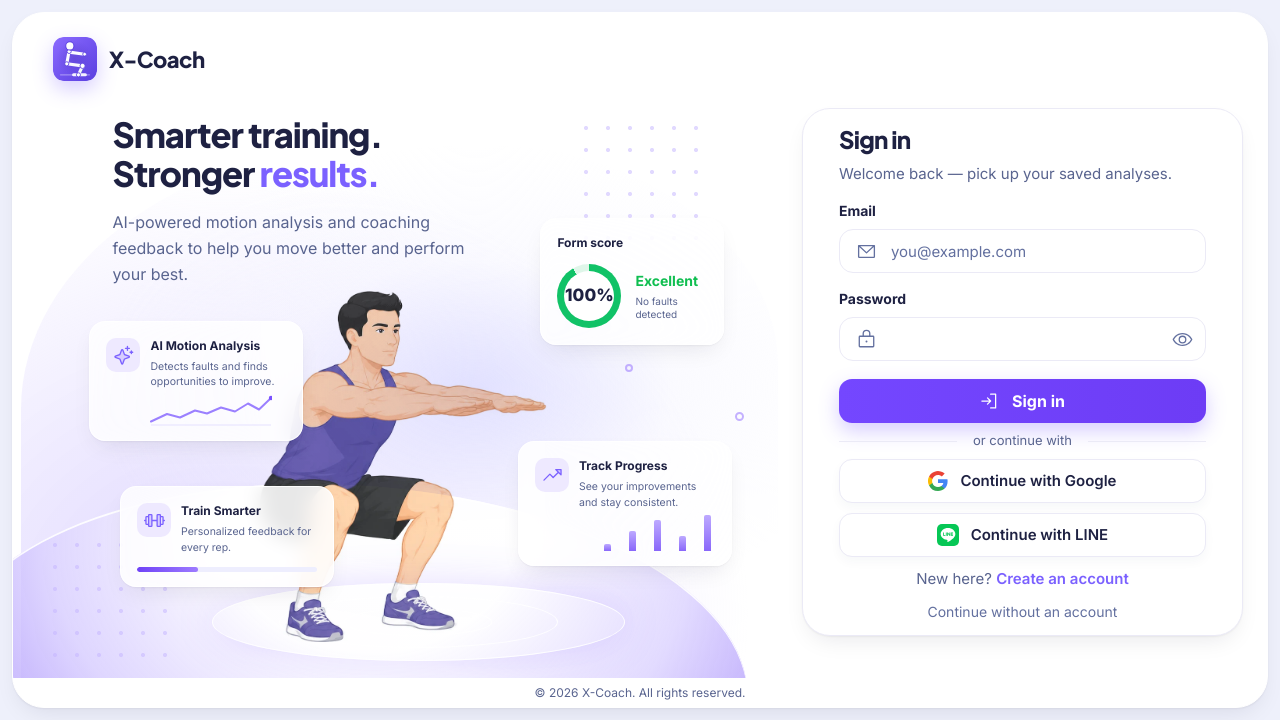
it: Login › shows the confirm-email notice on sign-up
This screenshot has width=1280, height=720.
Step 1. Click the button "Create an account" → (1062, 579), box [996, 568, 1129, 591]
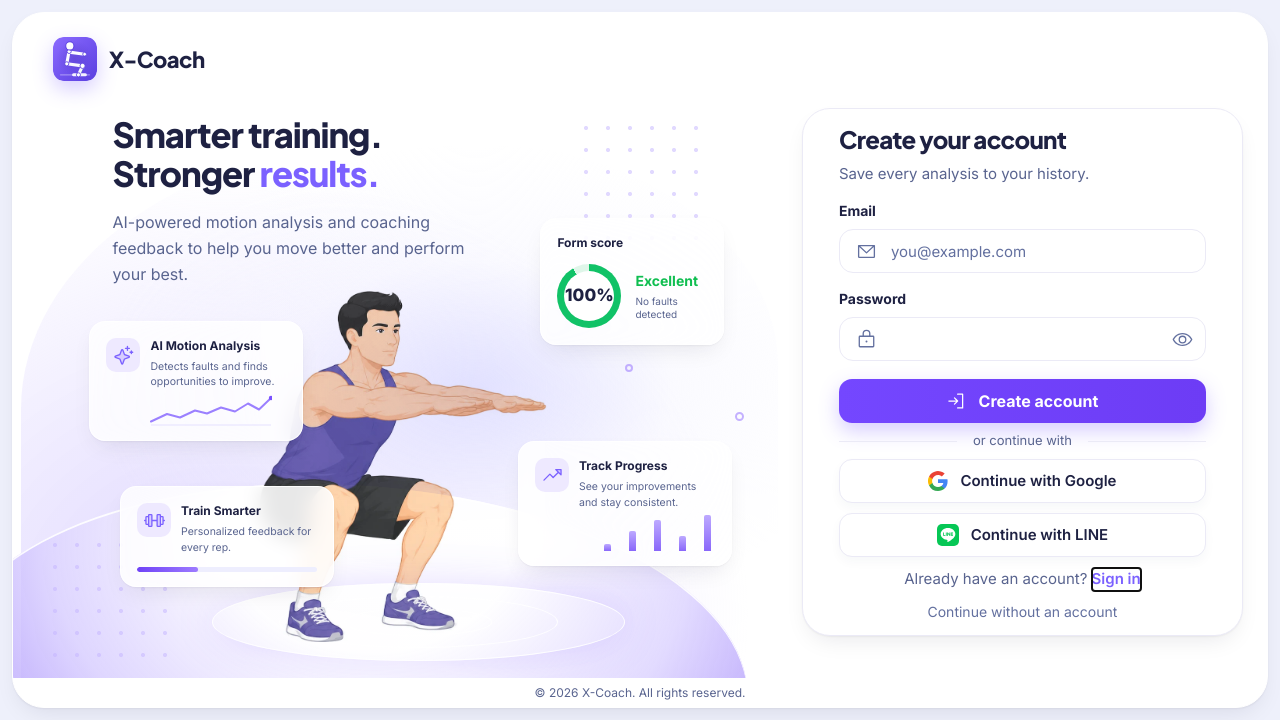
Step 2. Type "ada@x.com" into the field labelled "Email" → (1041, 251), box [877, 230, 1205, 272]
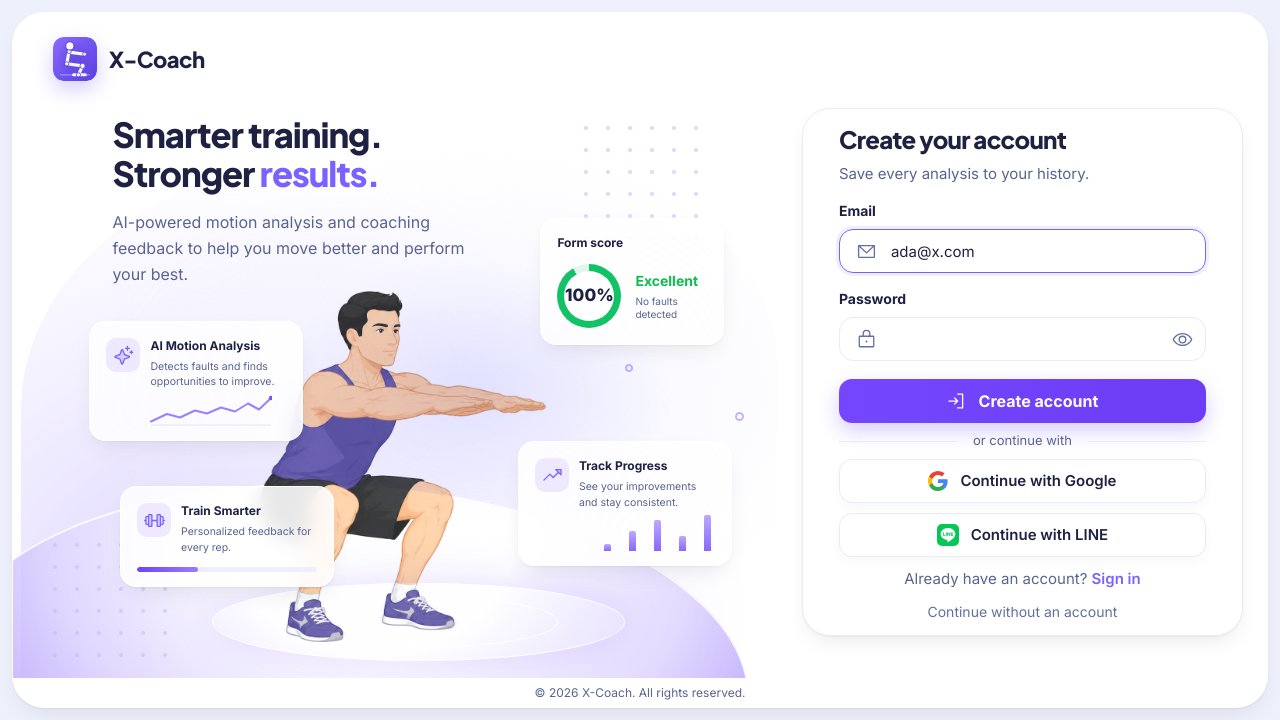
Step 3. Type "secret1" into the password field labelled "Password" → (1019, 339), box [877, 318, 1161, 360]
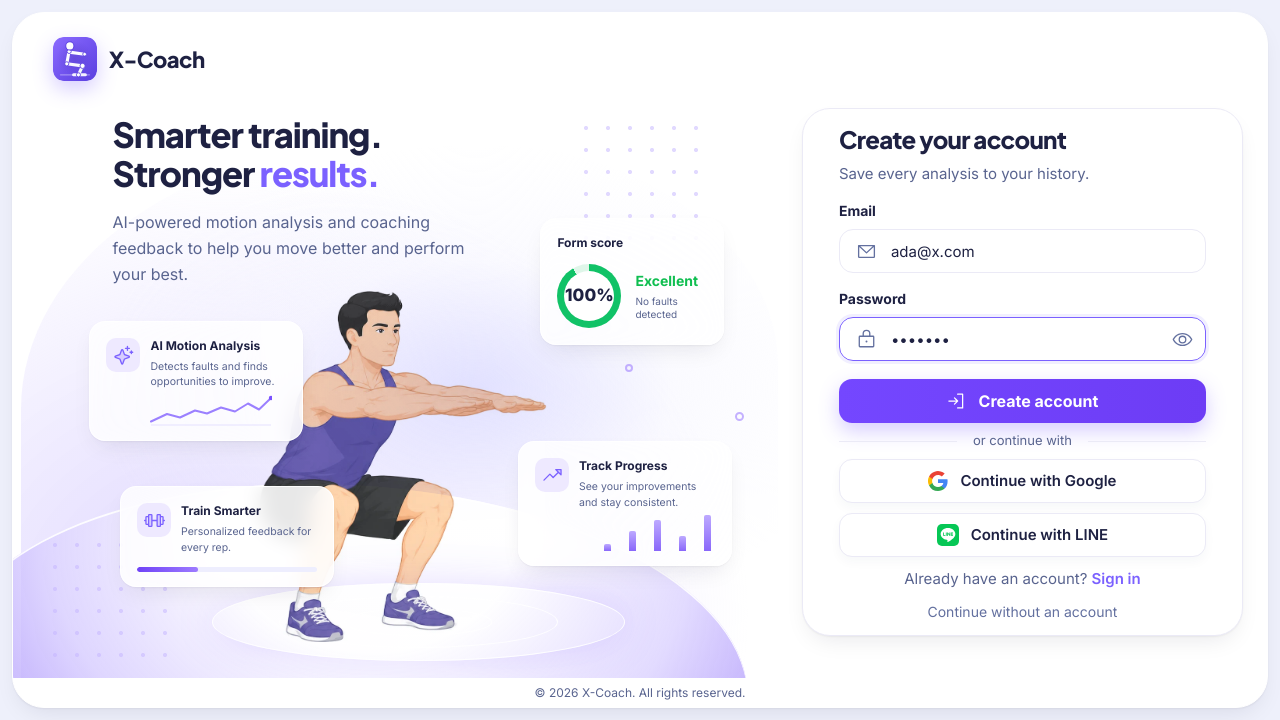
Step 4. Click the button "Create account" → (1022, 402), box [839, 380, 1206, 424]
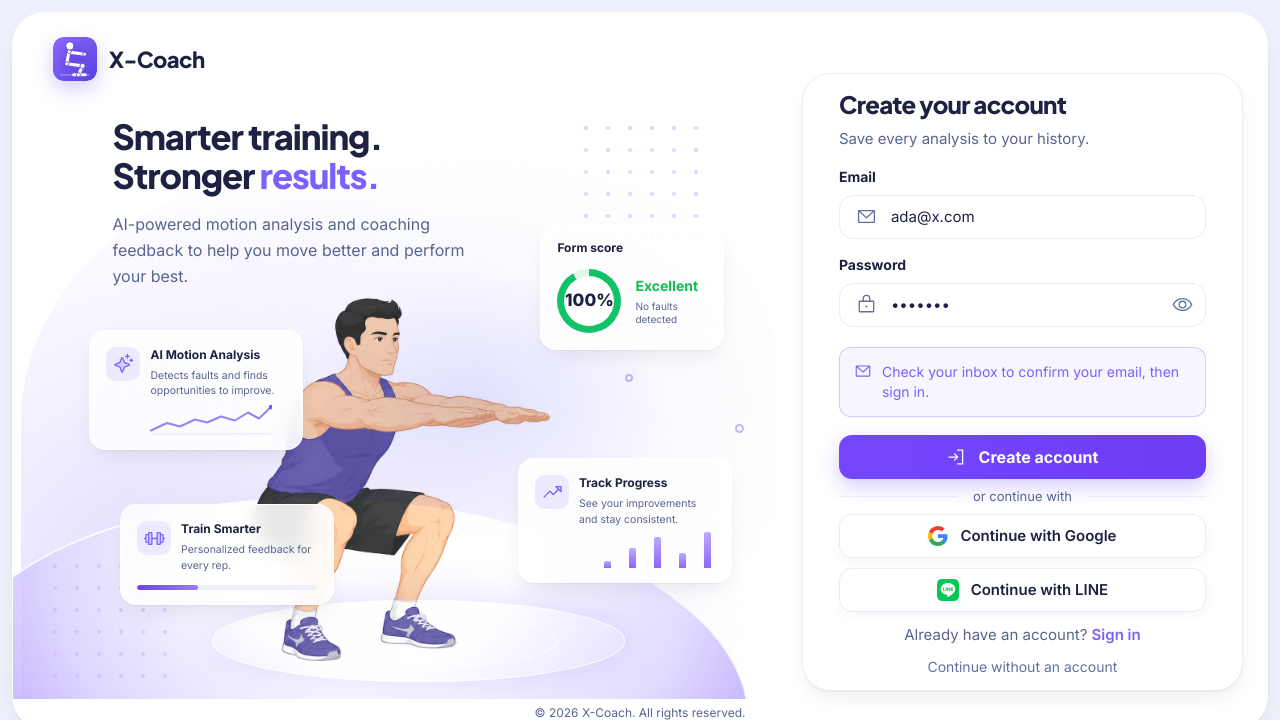
Expected: the text "Check your inbox to confirm your email, then sign in." is shown, [882, 362, 1191, 402]
